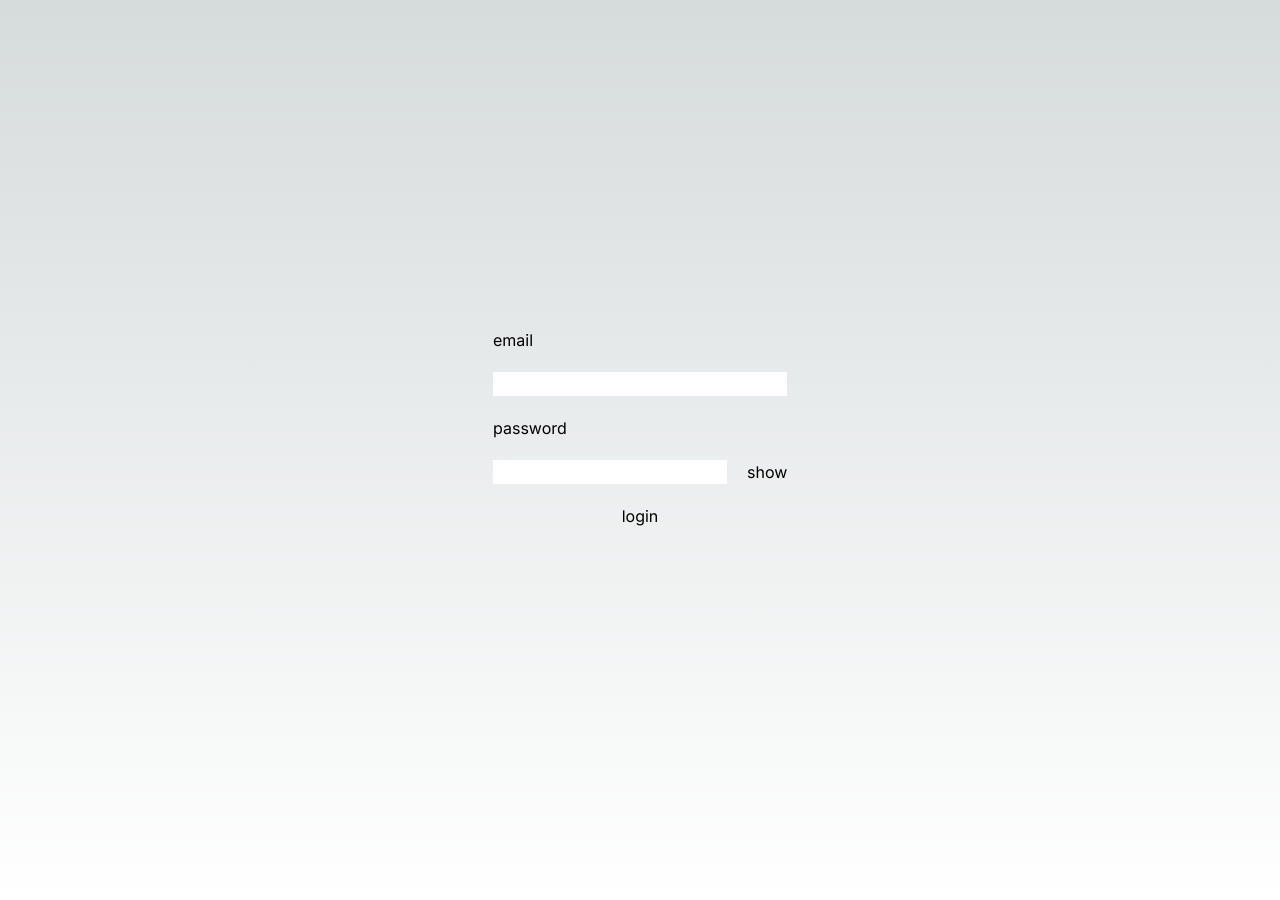
<Login /> › should hide and show the password
This screenshot has width=1280, height=900.
Click the button with test id "button-toggle-visibility" at [767, 472], box [747,460,787,484]
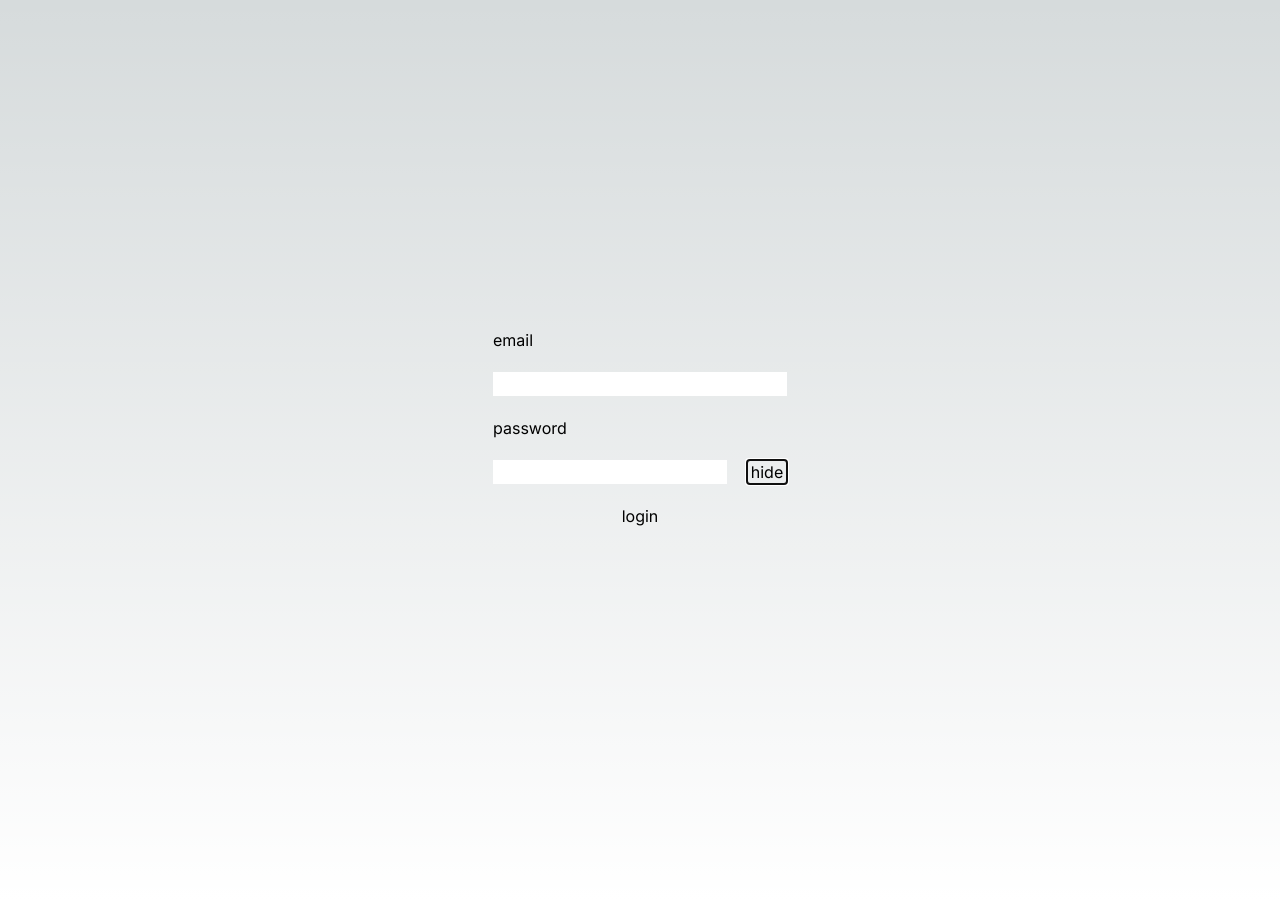
Expected: the button with test id "button-toggle-visibility" reads "hide", [747,460,787,484]
